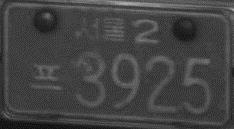2: (143, 54, 178, 115), (131, 16, 160, 46)
3: (74, 49, 106, 110)
5: (180, 56, 212, 117)
9: (110, 50, 142, 113)
서울_O: (71, 14, 127, 44)
프: (29, 60, 65, 93)
